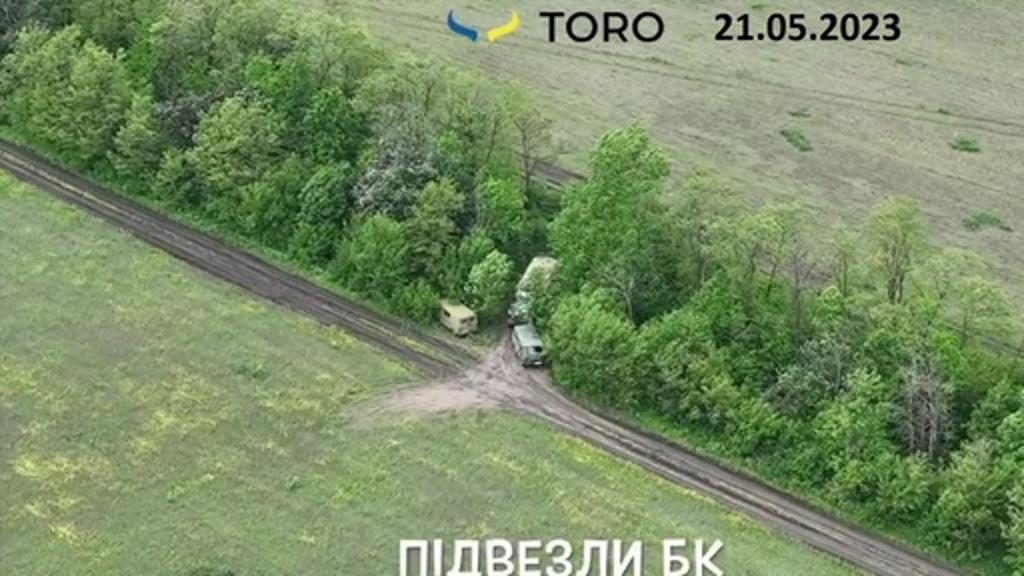CAR: (432, 292, 478, 340), (508, 320, 548, 368)
TRUCK: (506, 250, 564, 322)
